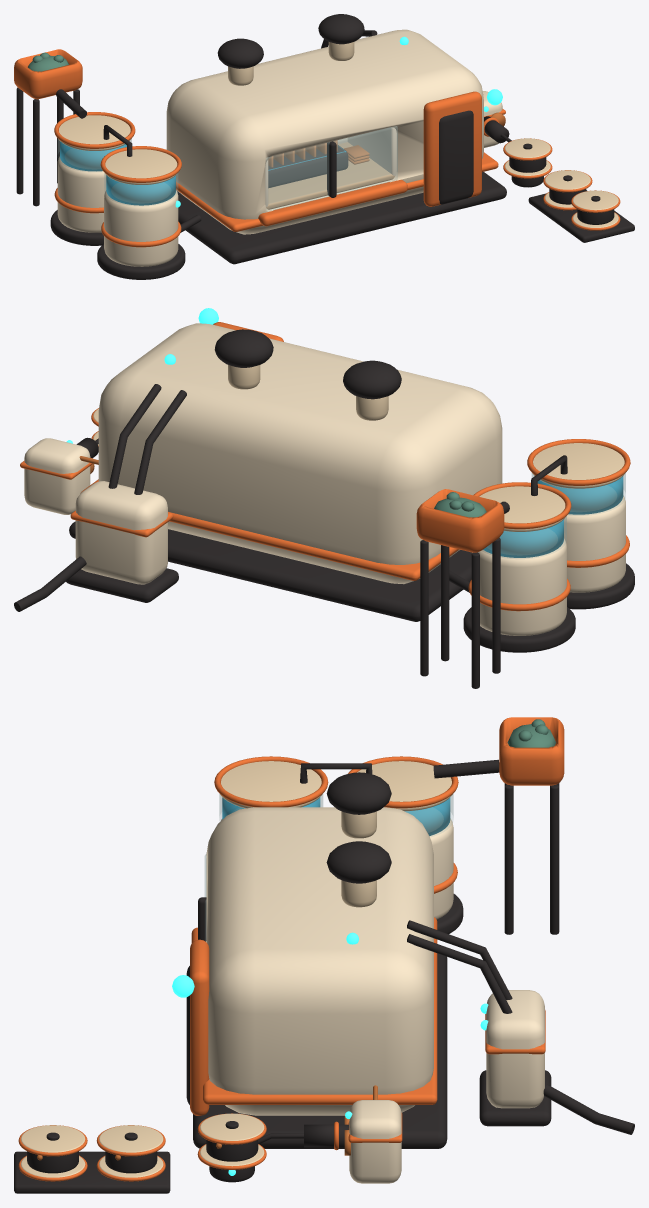
The model's file is copperworks.glb.
The picture shows the model from 3 angles, top to bottom: view 1: azimuth 30°, elevation 25°; view 2: azimuth 150°, elevation 25°; view 3: azimuth 270°, elevation 25°; orthographic projection. The views are drawn at different scales.
Parts seen in each view (by area): view 1: Cube.001, Cube, Cube.021, Cube.020, Cylinder, Cube.003, Cube.007, Cube.002, Cube.008, Sphere.006; view 2: Cube.001, Cube, Cube.021, Cylinder, Cube.020, Cube.007, Sphere.006; view 3: Cube.001, Cube, Cube.021, Cylinder, Cube.020, Cube.007, Sphere.006, Sphere.001.
Boxes of the visible parts, x1,y1,x2,y2 form: Cube.001: [57, 29, 502, 266]; Cube: [16, 14, 634, 279]; Cube.021: [14, 49, 620, 247]; Cube.020: [57, 126, 397, 211]; Cylinder: [58, 42, 618, 227]; Cube.003: [266, 142, 394, 209]; Cube.007: [60, 141, 346, 205]; Cube.002: [265, 127, 396, 206]; Cube.008: [268, 112, 505, 167]; Sphere.006: [28, 52, 68, 71]; Cube.001: [24, 323, 625, 635]; Cube: [14, 329, 634, 688]; Cube.021: [20, 322, 630, 611]; Cylinder: [93, 365, 625, 531]; Cube.020: [482, 473, 625, 558]; Cube.007: [483, 476, 623, 557]; Sphere.006: [434, 492, 486, 517]; Cube.001: [206, 807, 544, 1183]; Cube: [14, 759, 634, 1193]; Cube.021: [18, 717, 564, 1181]; Cylinder: [21, 761, 452, 1177]; Cube.020: [204, 793, 453, 941]; Cube.007: [222, 797, 450, 835]; Sphere.006: [507, 719, 556, 747]; Sphere.001: [172, 932, 488, 1175].
Bounding box in the file's own units: 2.19 × 0.7908 × 1.91.
